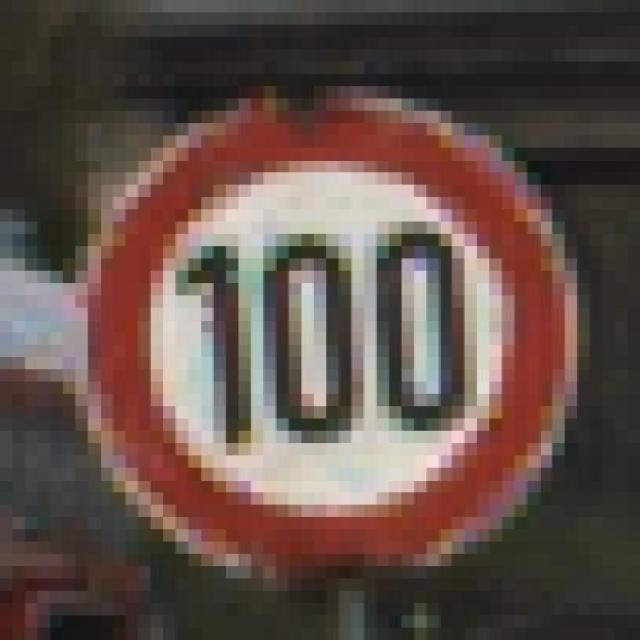forb_speed_over_100: (92, 93, 570, 573)
